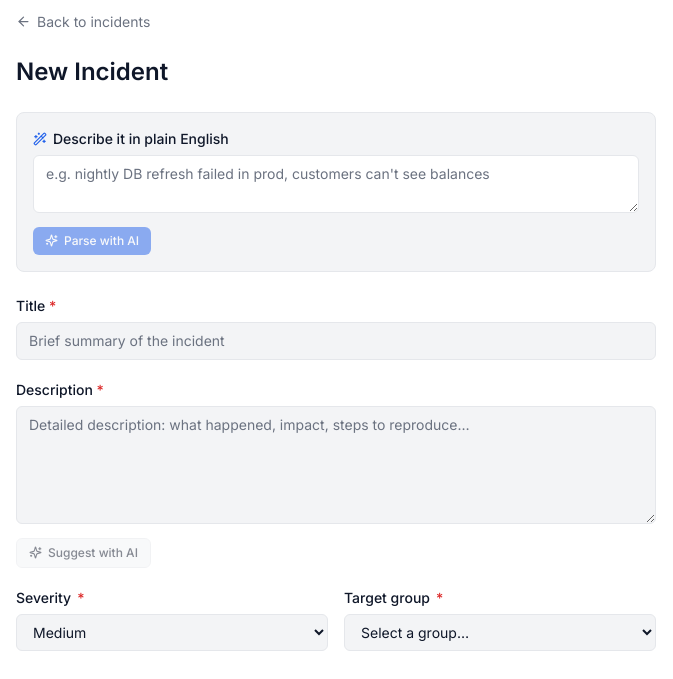
Test: CreateIncidentPage › disables the Parse with AI button until the intake text meets the minimum length
Expected: the button "Parse with AI" is disabled, x1=33 y1=226 x2=151 y2=254
Replace the text in the text box with placeholder "nightly DB refresh failed in prod" with "nightly DB refresh failed, customers cannot see balances" at (336, 184), box x1=33 y1=154 x2=639 y2=212
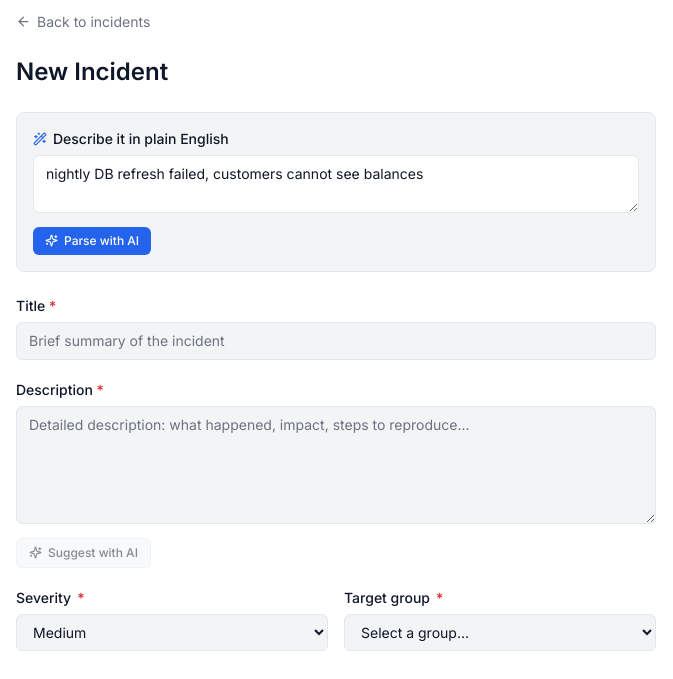
Expected: the button "Parse with AI" is enabled, x1=33 y1=226 x2=151 y2=254
